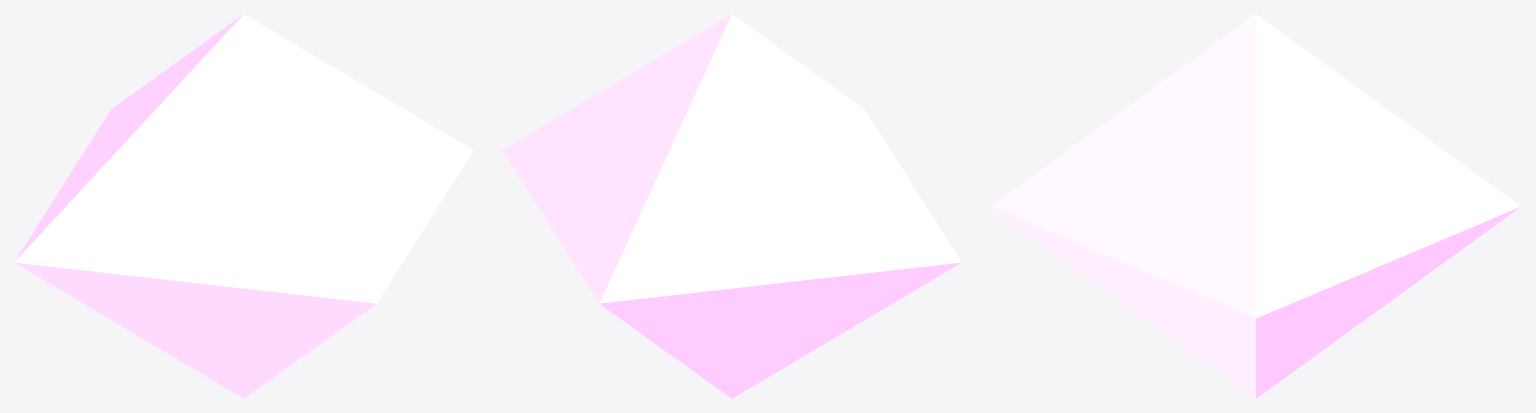
File: boss_cube_core.glb
3 renders of one model, left to right at view 1: azimuth 30°, elevation 25°; view 2: azimuth 150°, elevation 25°; view 3: azimuth 270°, elevation 25°, orthographic.
Parts seen in each view (by area): view 1: boss_cube_core; view 2: boss_cube_core; view 3: boss_cube_core.
Boxes of the visible parts, left/top/right/bottom form: boss_cube_core: left=14, top=14, right=473, bottom=398; boss_cube_core: left=502, top=14, right=961, bottom=398; boss_cube_core: left=990, top=14, right=1521, bottom=398.
Bounding box in the file's own units: 0.595 × 0.476 × 0.595.
